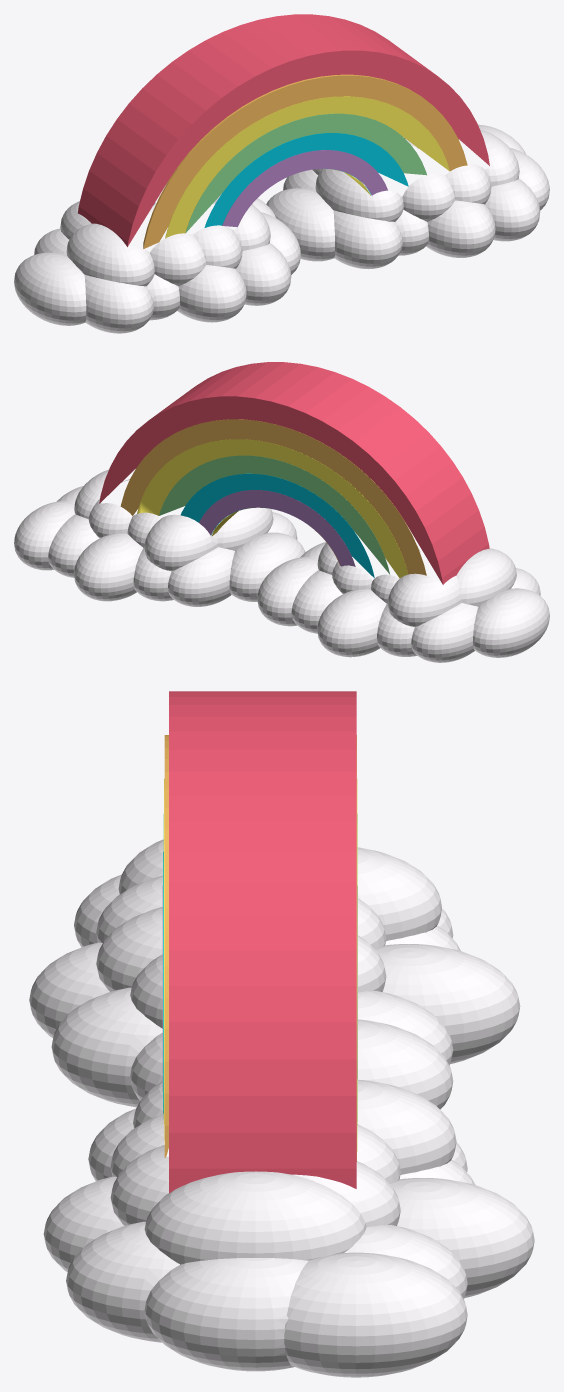
Rendered from Rainbow.glb.
3 renders of one model, top to bottom at view 1: azimuth 30°, elevation 25°; view 2: azimuth 150°, elevation 25°; view 3: azimuth 270°, elevation 25°, orthographic. The views are drawn at different scales.
Visible parts, largest first — view 1: Obj3d66-12720045-3-288; view 2: Obj3d66-12720045-3-288; view 3: Obj3d66-12720045-3-288.
Boxes of the visible parts, x1,y1,x2,y2 form: Obj3d66-12720045-3-288: (14, 14, 549, 333); Obj3d66-12720045-3-288: (14, 362, 549, 662); Obj3d66-12720045-3-288: (29, 691, 534, 1377).
Size of the model in its own units: 1.37 by 0.5708 by 0.6116.
Materials: 1 (1 with a texture image).
